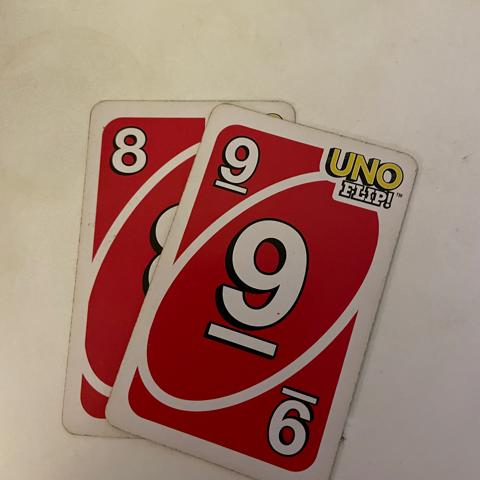4_yellow: (105, 123, 148, 176)
5_yellow: (195, 219, 318, 357), (267, 385, 318, 458), (215, 133, 264, 196)
